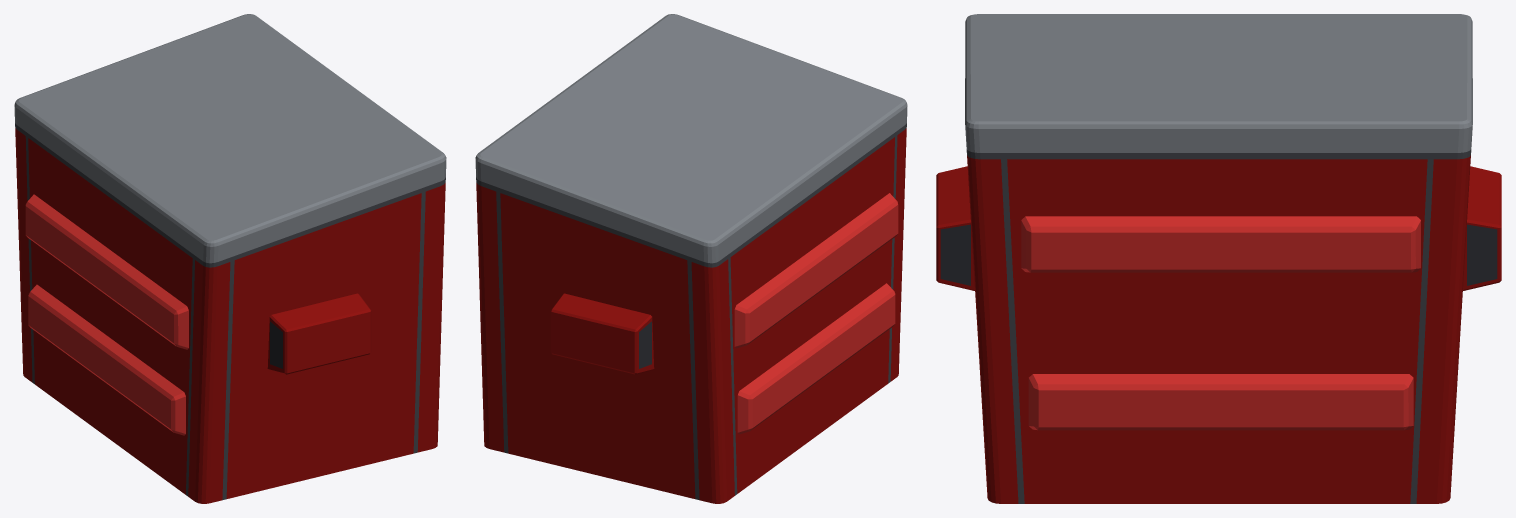
The model's file is SM_DustBin_2.fbx.
3 views of the same model, side by side, from view 1: azimuth 30°, elevation 25°; view 2: azimuth 150°, elevation 25°; view 3: azimuth 270°, elevation 25° (orthographic). The views are drawn at different scales.
Parts seen in each view (by area): view 1: SM_DustBin_2_LOD0; view 2: SM_DustBin_2_LOD0; view 3: SM_DustBin_2_LOD0.
Part boxes in pixels (x1,y1,x2,y2): SM_DustBin_2_LOD0: (14,14,446,503); SM_DustBin_2_LOD0: (475,14,907,503); SM_DustBin_2_LOD0: (936,14,1501,503).
Size of the model in its own units: 109 by 159 by 118.
Materials: 1 (1 with a texture image).
